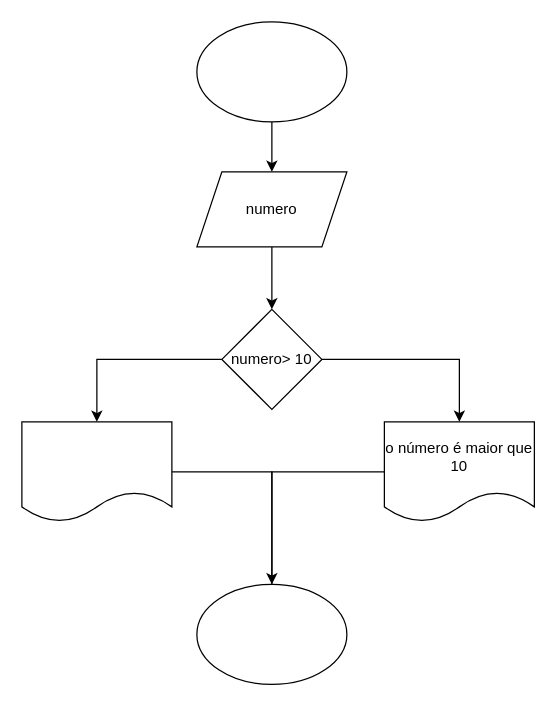
Some shapes in this 556 by 706 pixel diagram are drawn without their labels. Each missing label, with the centre of its shape:
"fim" belongs at (271,633).
"inicio" belongs at (271,71).
